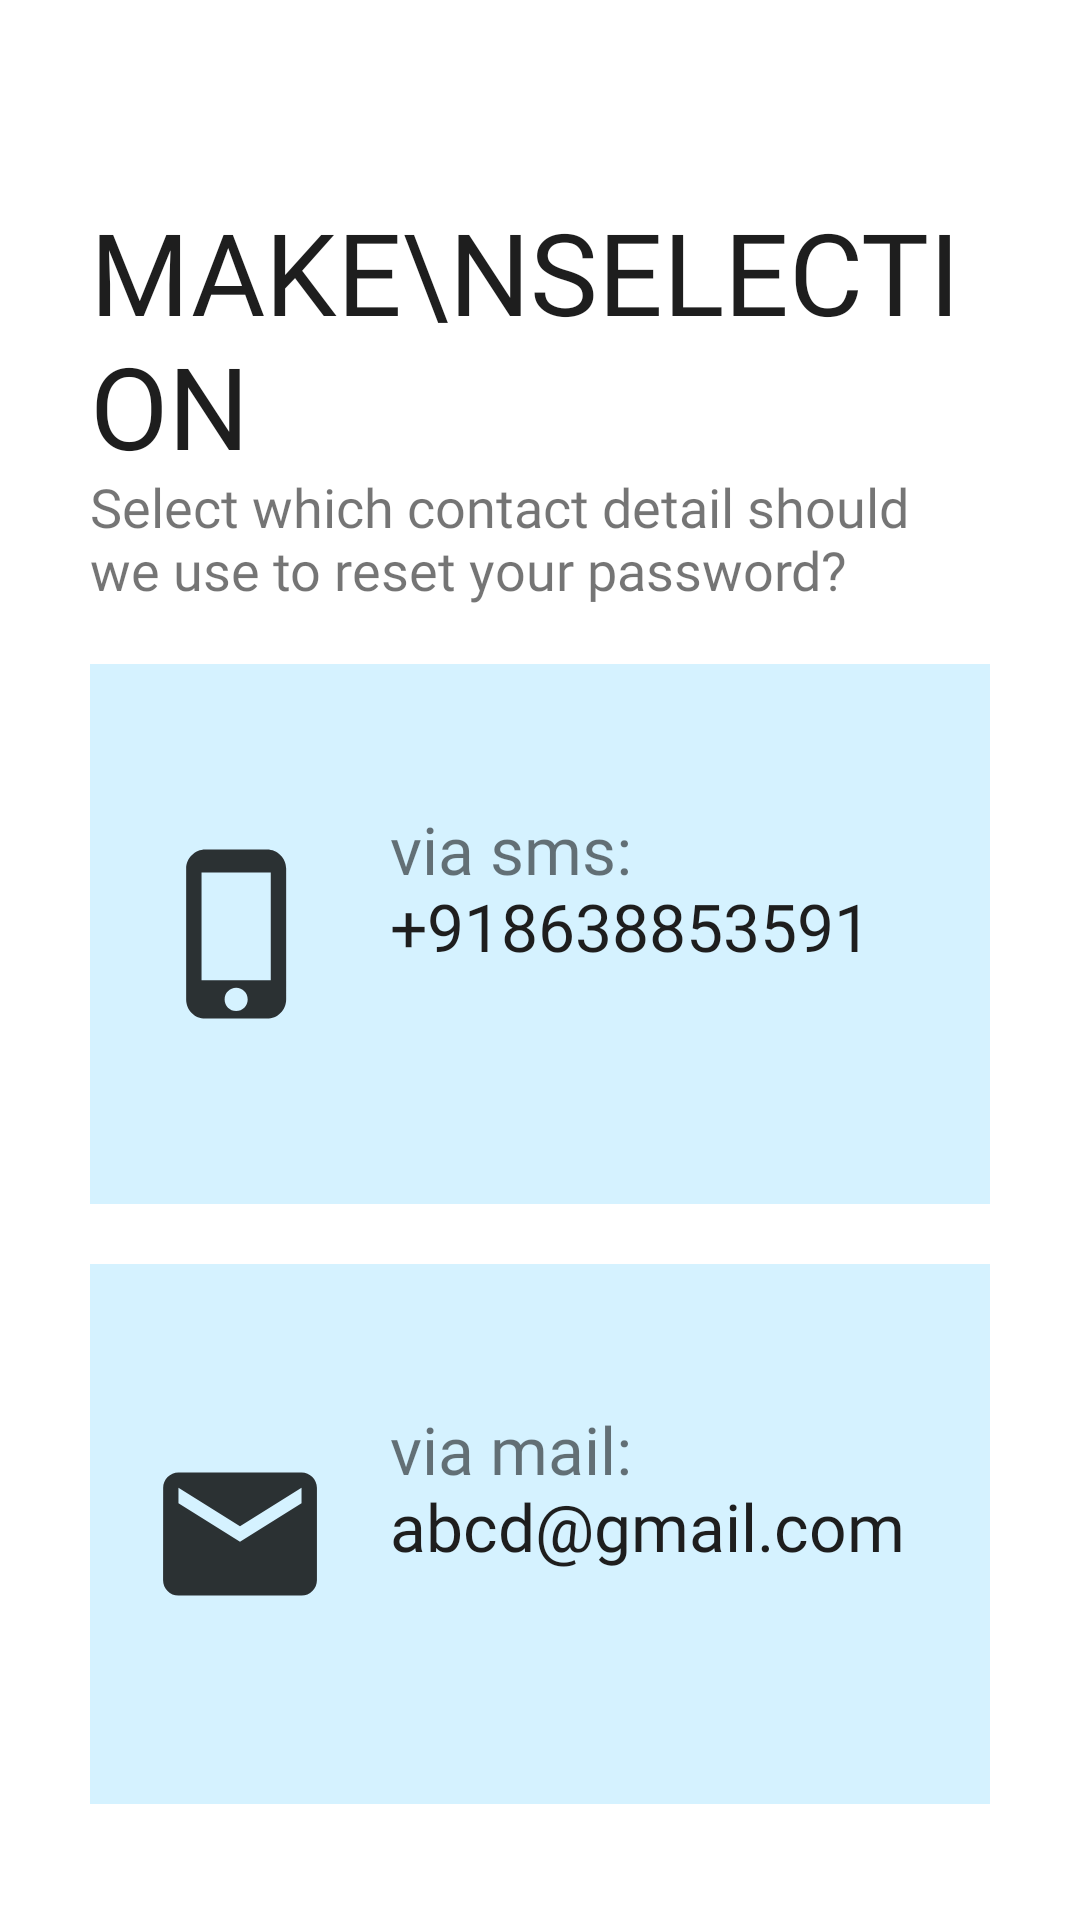

Screen size 1080×1920. Icon name, then its center in pixels as [x,y]:
email: [240,1534]
phone: [236,934]
